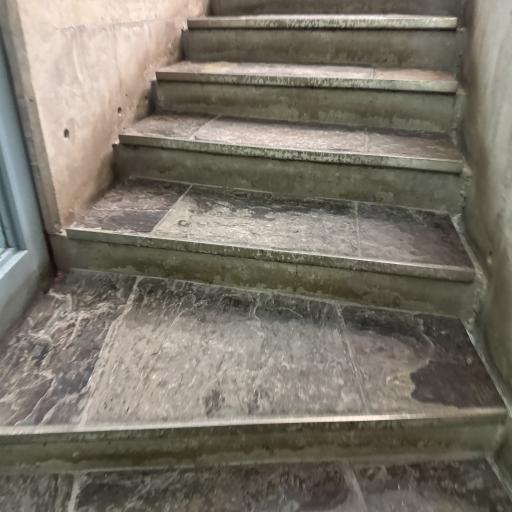Stairs: (0, 0, 507, 510), (0, 270, 507, 472), (61, 178, 478, 318), (115, 113, 467, 214), (156, 62, 464, 134), (184, 14, 463, 74), (212, 0, 464, 18)
